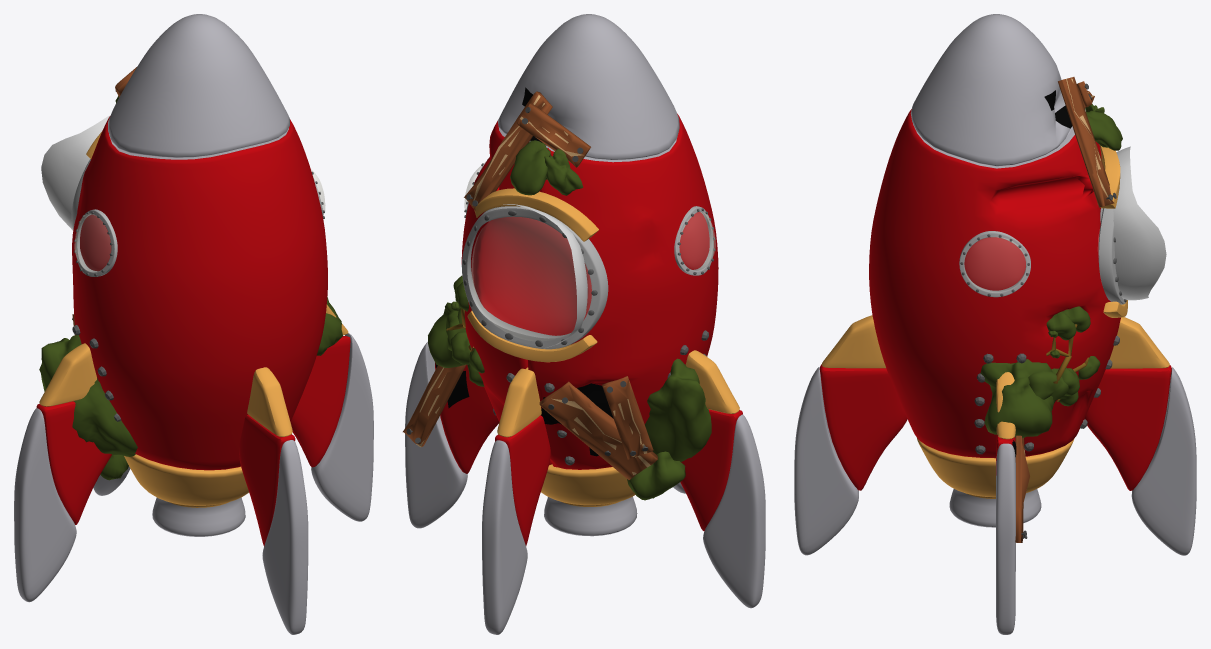
Rendered from rocketready.glb.
3 renders of one model, left to right at view 1: azimuth 30°, elevation 25°; view 2: azimuth 150°, elevation 25°; view 3: azimuth 270°, elevation 25°, orthographic.
Visible parts, largest first — view 1: body, Sphere.006; view 2: body, Sphere.006; view 3: body, Sphere.006.
Part boxes in pixels (x1=…): body: x1=14, y1=14, x2=373, y2=634; Sphere.006: x1=41, y1=115, x2=110, y2=230; body: x1=403, y1=14, x2=765, y2=634; Sphere.006: x1=503, y1=204, x2=587, y2=348; body: x1=794, y1=14, x2=1196, y2=634; Sphere.006: x1=1100, y1=146, x2=1166, y2=300.
Size of the model in its own units: 1.22 by 1.8 by 1.22.
